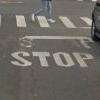Crosswalk: (6, 9, 90, 34)
